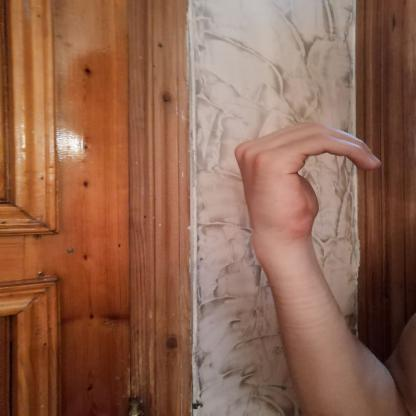HAA: (219, 110, 404, 256)
